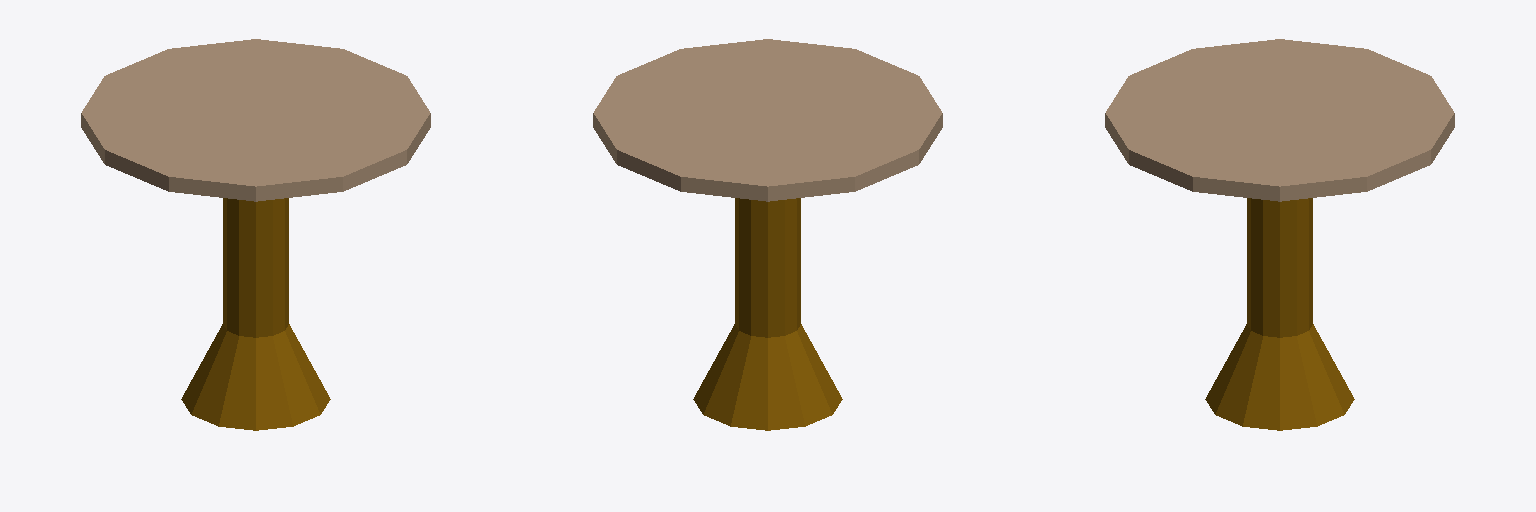
File: table.obj
3 renders of one model, left to right at view 1: azimuth 30°, elevation 25°; view 2: azimuth 150°, elevation 25°; view 3: azimuth 270°, elevation 25°, orthographic.
Parts seen in each view (by area): view 1: group[number redacted], group[number redacted], group[number redacted]; view 2: group[number redacted], group[number redacted], group[number redacted]; view 3: group[number redacted], group[number redacted], group[number redacted].
Boxes of the visible parts, box(x1,y1,x2,y2) form: group[number redacted]: box(81, 39, 430, 201); group[number redacted]: box(181, 324, 330, 430); group[number redacted]: box(223, 198, 288, 337); group[number redacted]: box(593, 39, 942, 201); group[number redacted]: box(693, 324, 842, 430); group[number redacted]: box(735, 198, 800, 337); group[number redacted]: box(1105, 39, 1454, 201); group[number redacted]: box(1205, 324, 1354, 430); group[number redacted]: box(1247, 198, 1312, 337).
Size of the model in its own units: 0.42 by 0.38 by 0.42.